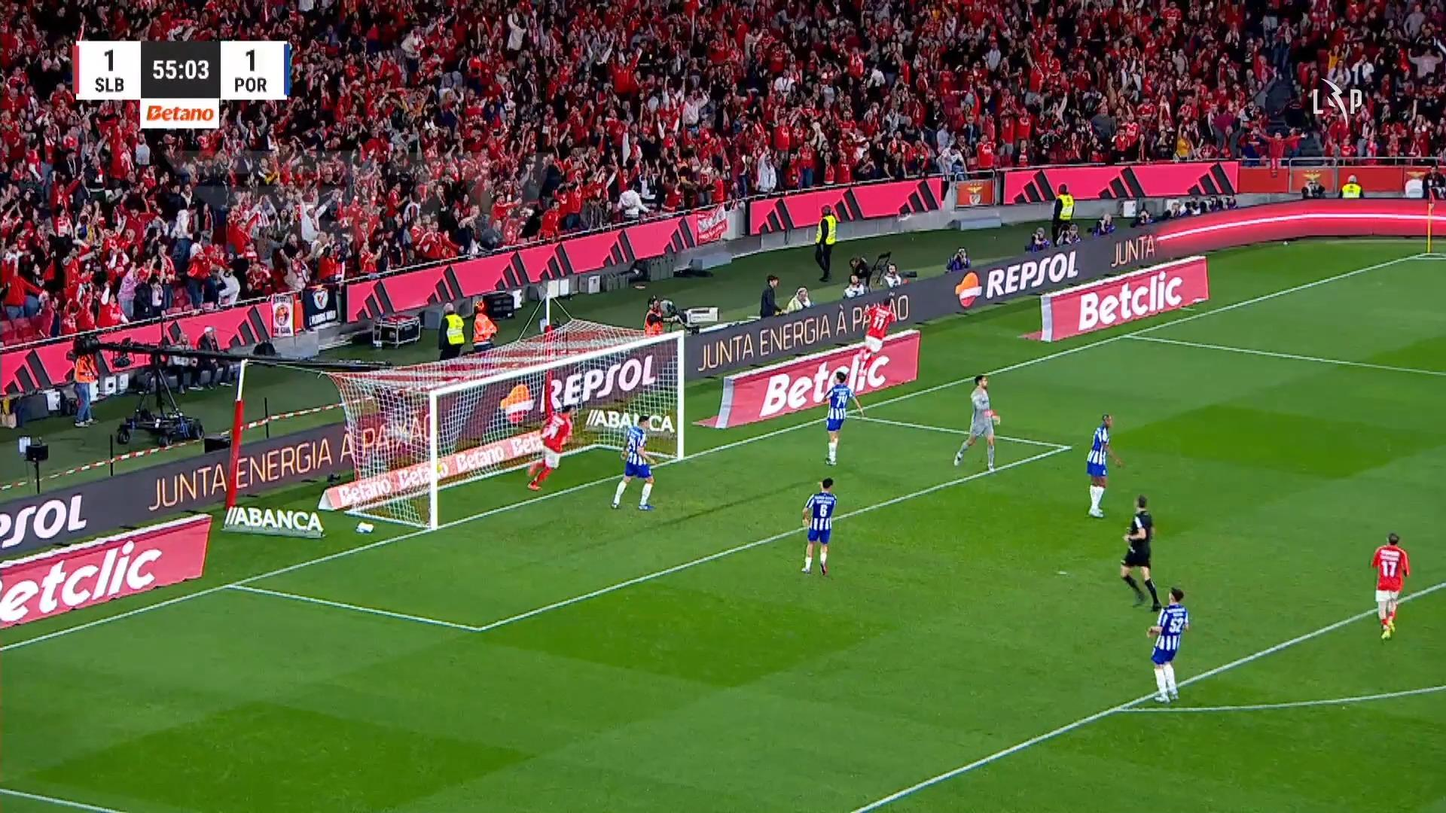goalkeeper: (952, 373, 999, 471)
player: (1146, 586, 1189, 703), (817, 367, 864, 466), (609, 413, 656, 511), (1370, 531, 1410, 640), (524, 404, 574, 491), (1084, 413, 1123, 517), (799, 477, 836, 575), (861, 296, 895, 355)
referee: (1119, 494, 1162, 611)
